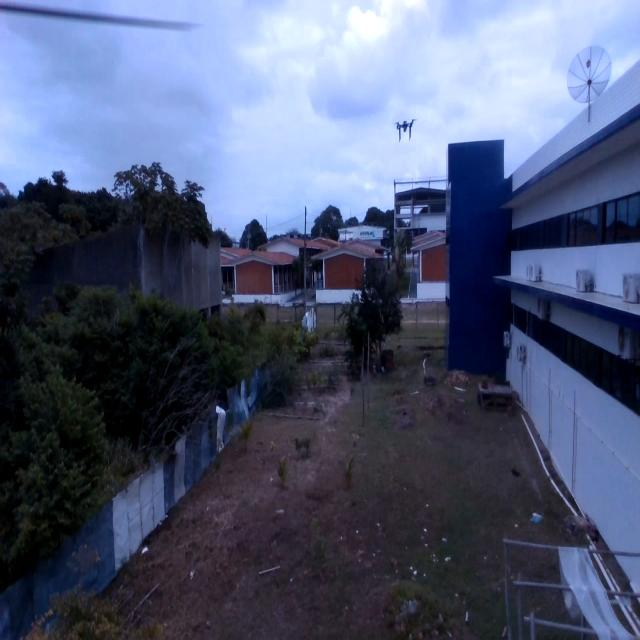-uav-: (391, 105, 420, 154)
